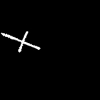single_crochet: (1, 32, 39, 51)
